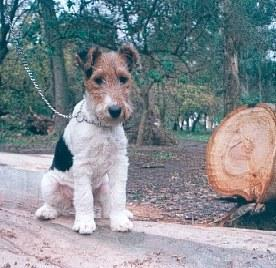wire-haired_fox_terrier: (33, 43, 138, 235)
